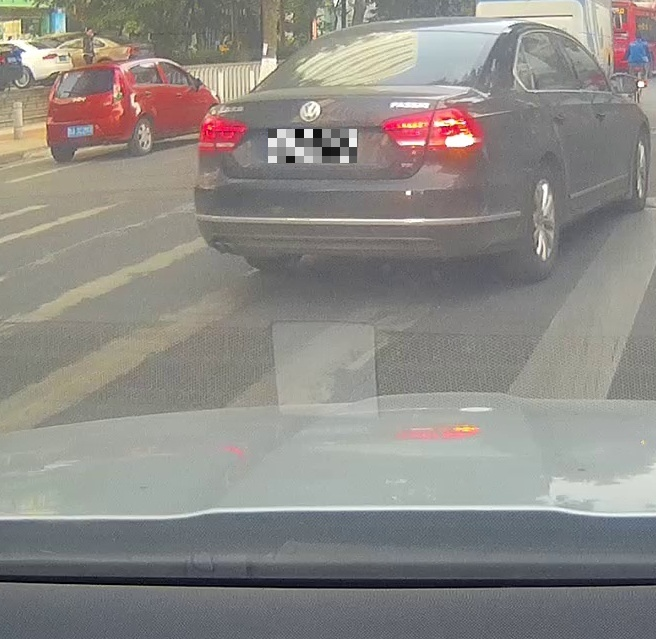L_light: (197, 114, 248, 153), (48, 100, 60, 110)
R_light: (380, 106, 486, 152), (102, 91, 124, 108)
T_light: (341, 76, 381, 87), (81, 65, 92, 71)
day-no: (46, 62, 134, 162)
day-right: (194, 16, 509, 277)
plate_1: (268, 129, 357, 163)
